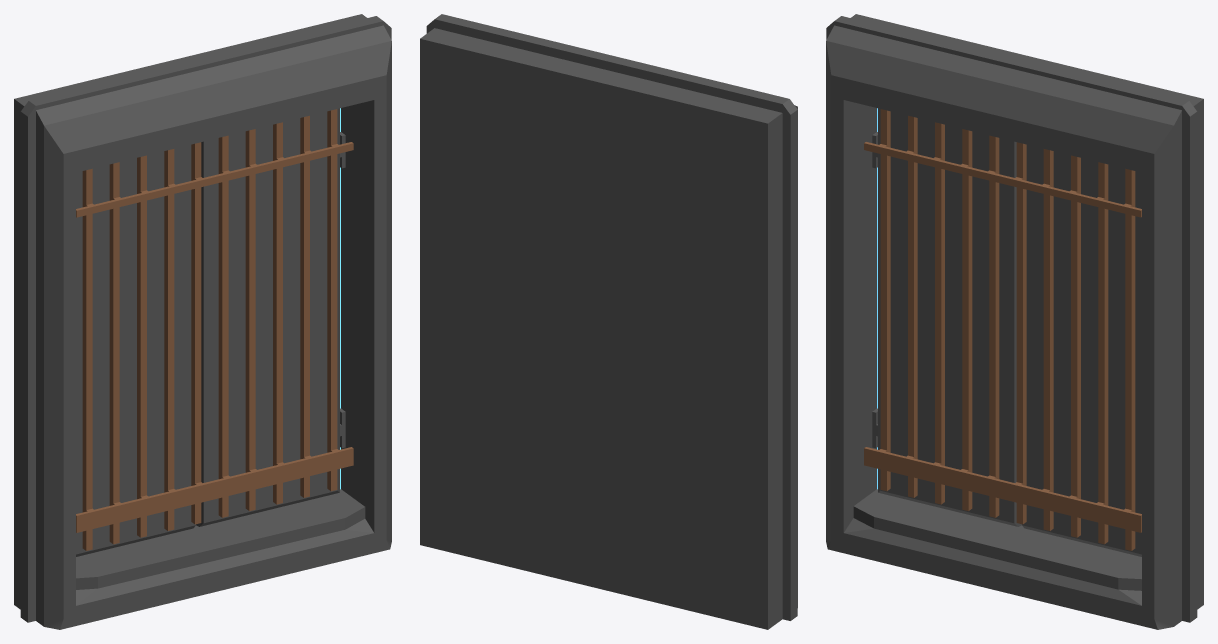
File: SM_Door.fbx
3 views of the same model, side by side, from view 1: azimuth 30°, elevation 25°; view 2: azimuth 150°, elevation 25°; view 3: azimuth 330°, elevation 25° (orthographic).
Visible parts, largest first — view 1: Door; view 2: Door; view 3: Door.
Part boxes in pixels (box(x1,y1,x2,y2)): Door: box(14, 14, 391, 629); Door: box(420, 14, 797, 629); Door: box(826, 14, 1203, 629).
Bounding box in the file's own units: 5.76 × 7.79 × 1.02.
